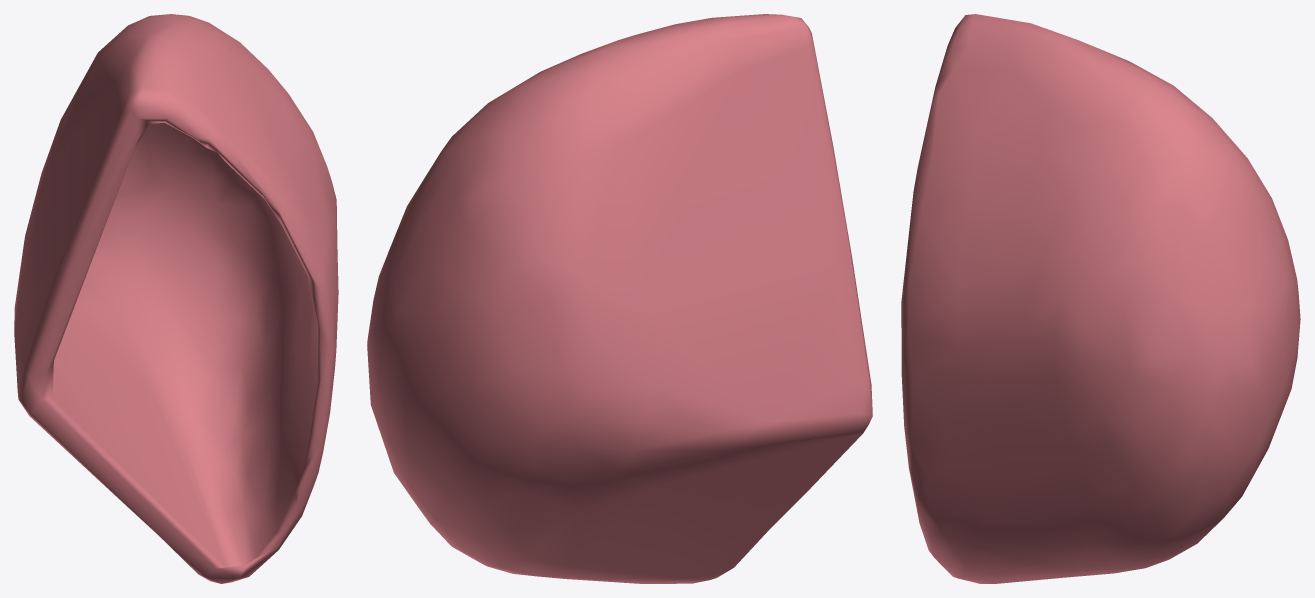
The picture shows the model from 3 angles, left to right: view 1: azimuth 30°, elevation 25°; view 2: azimuth 150°, elevation 25°; view 3: azimuth 270°, elevation 25°; orthographic projection. The views are drawn at different scales.
Visible parts, largest first — view 1: 主动脉瓣左冠瓣; view 2: 主动脉瓣左冠瓣; view 3: 主动脉瓣左冠瓣.
Part boxes in pixels (left/top/right/bottom): 主动脉瓣左冠瓣: left=14, top=14, right=338, bottom=583; 主动脉瓣左冠瓣: left=367, top=14, right=872, bottom=583; 主动脉瓣左冠瓣: left=901, top=14, right=1300, bottom=583.
Bounding box in the file's own units: 0.0218 × 0.0301 × 0.0207.
